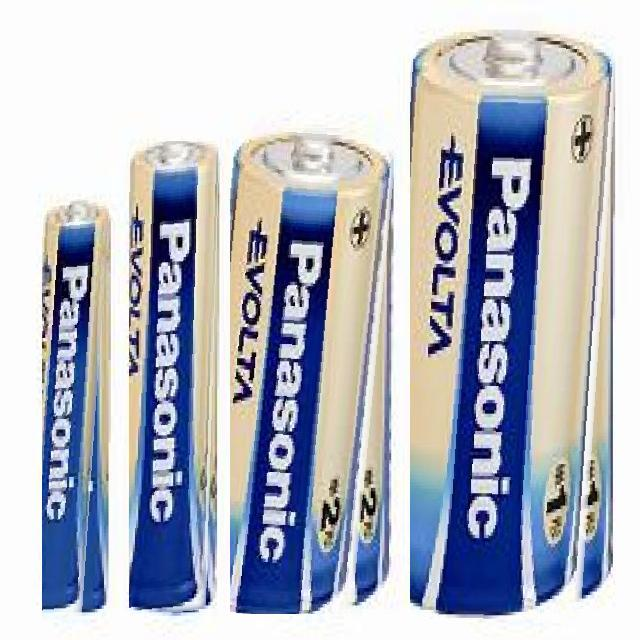battery: (410, 19, 620, 619), (230, 120, 398, 614), (129, 141, 220, 618), (42, 199, 110, 624)
